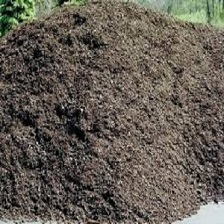loamy_soil: (9, 12, 197, 199)
